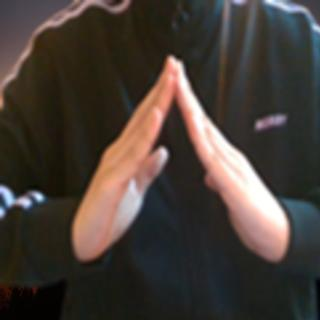HOME: (74, 53, 289, 263)
